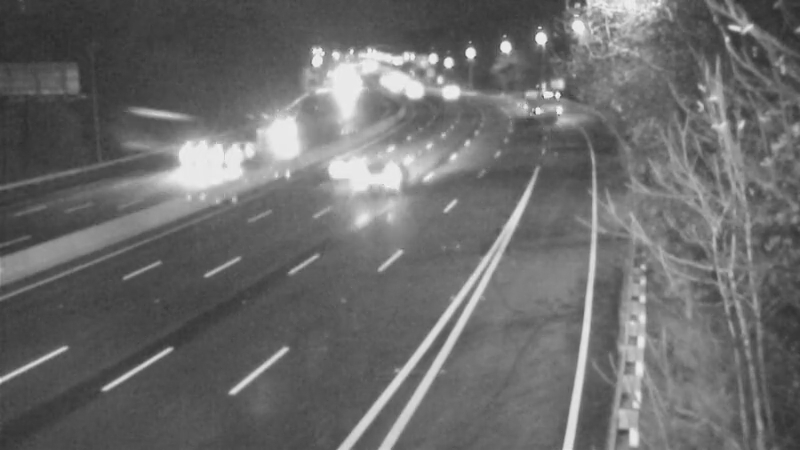vehicle: (304, 122, 384, 202), (333, 137, 413, 217), (151, 112, 231, 192), (191, 114, 271, 194), (422, 67, 472, 117), (383, 70, 433, 120), (520, 76, 570, 126), (266, 104, 316, 154)
